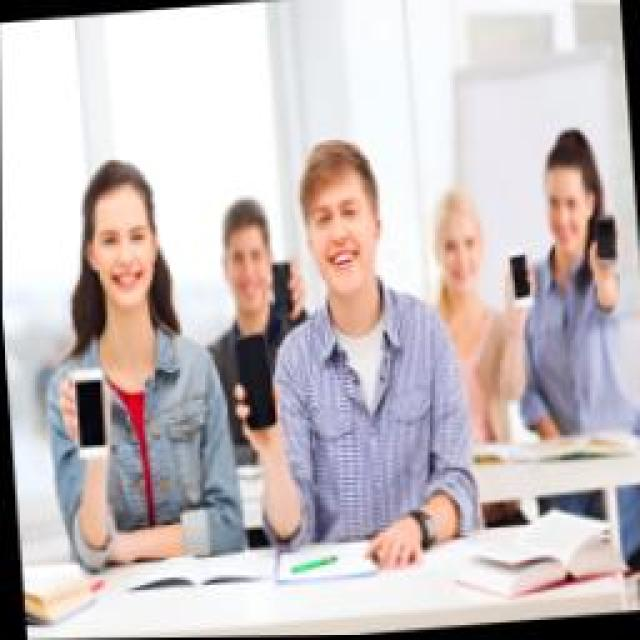phone: (212, 128, 480, 580), (28, 153, 242, 565), (502, 120, 632, 445), (430, 188, 545, 460), (190, 190, 308, 368)
